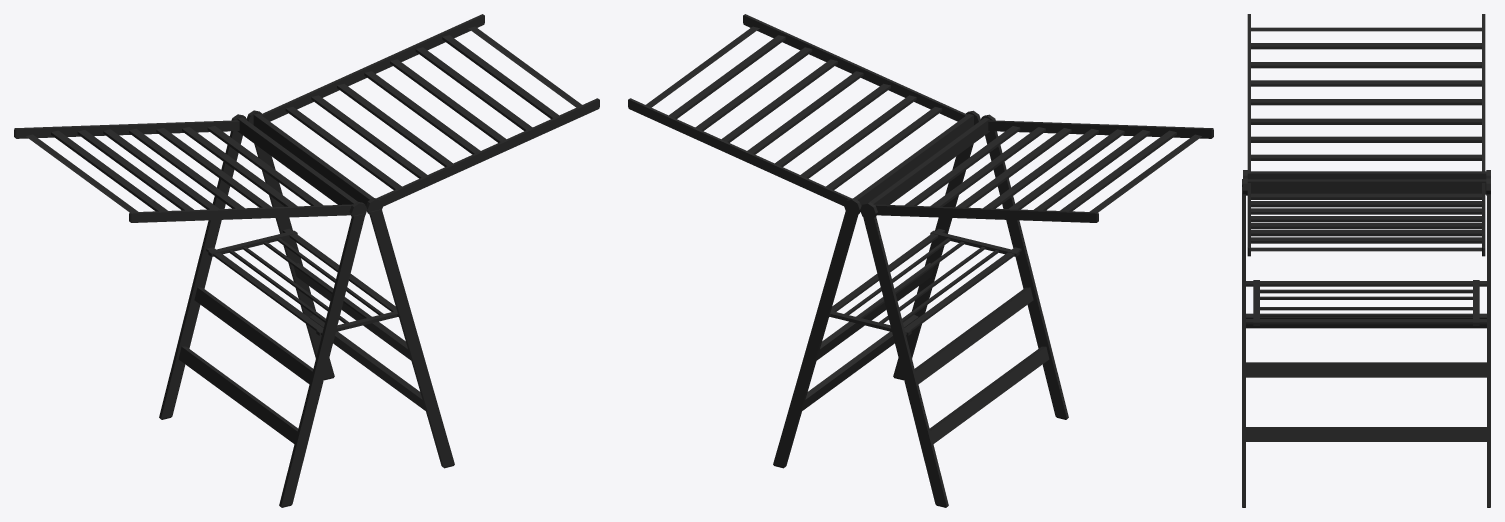
File: drying_rack.fbx
3 renders of one model, left to right at view 1: azimuth 30°, elevation 25°; view 2: azimuth 150°, elevation 25°; view 3: azimuth 270°, elevation 25°, orthographic.
Visible parts, largest first — view 1: drying_rack; view 2: drying_rack; view 3: drying_rack.
Boxes of the visible parts, box(x1,y1,x2,y2) form: drying_rack: box(14, 14, 599, 507); drying_rack: box(628, 14, 1213, 507); drying_rack: box(1242, 14, 1490, 507).
Bounding box in the file's own units: 41.52 × 27.74 × 18.68.
1 material, 1 textured.
